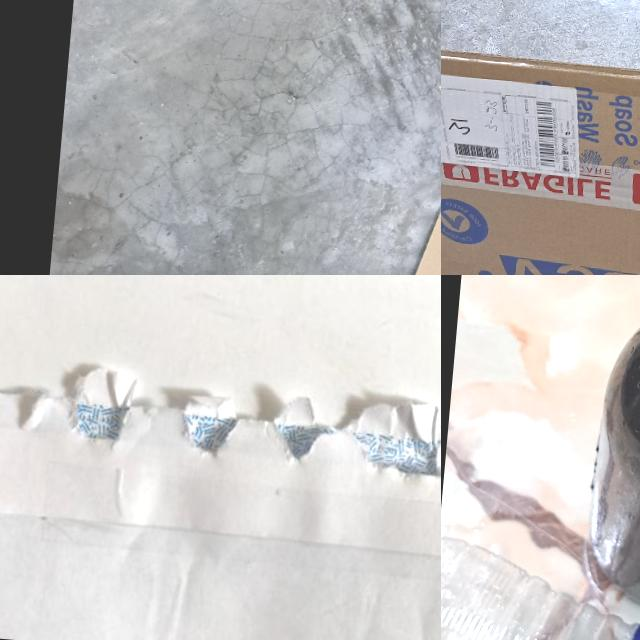garrafa de vidro: (579, 275, 640, 622)
garrafa plástica: (441, 536, 640, 640)
papel: (0, 335, 441, 640)
papelão: (441, 44, 640, 275)
